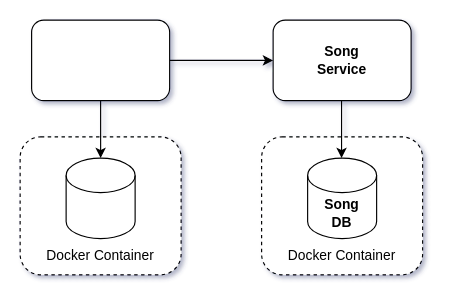
The diagram is 450 pixels wide and 302 high, and some of its shapes have lost their labels. Here are the shapes that lost their labels. From the top down, the centre of each, then its label:
At (x=100, y=60): "Resource Service".
At (x=100, y=198): "Resource DB".
